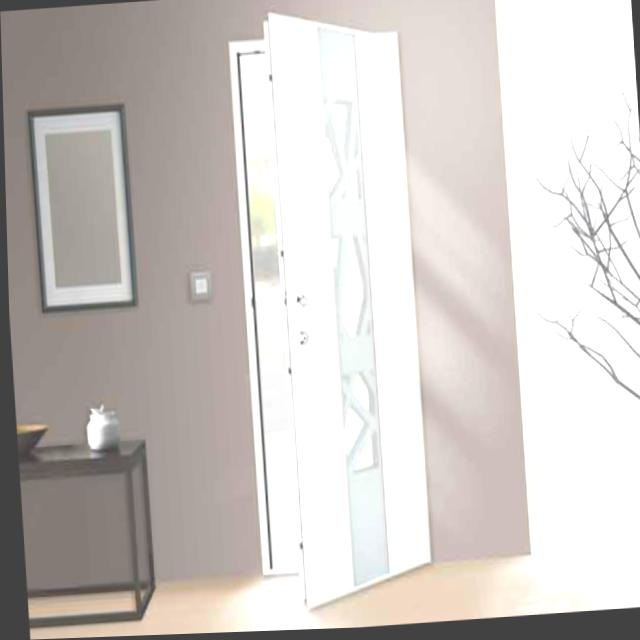semi-open: (221, 0, 433, 630)
